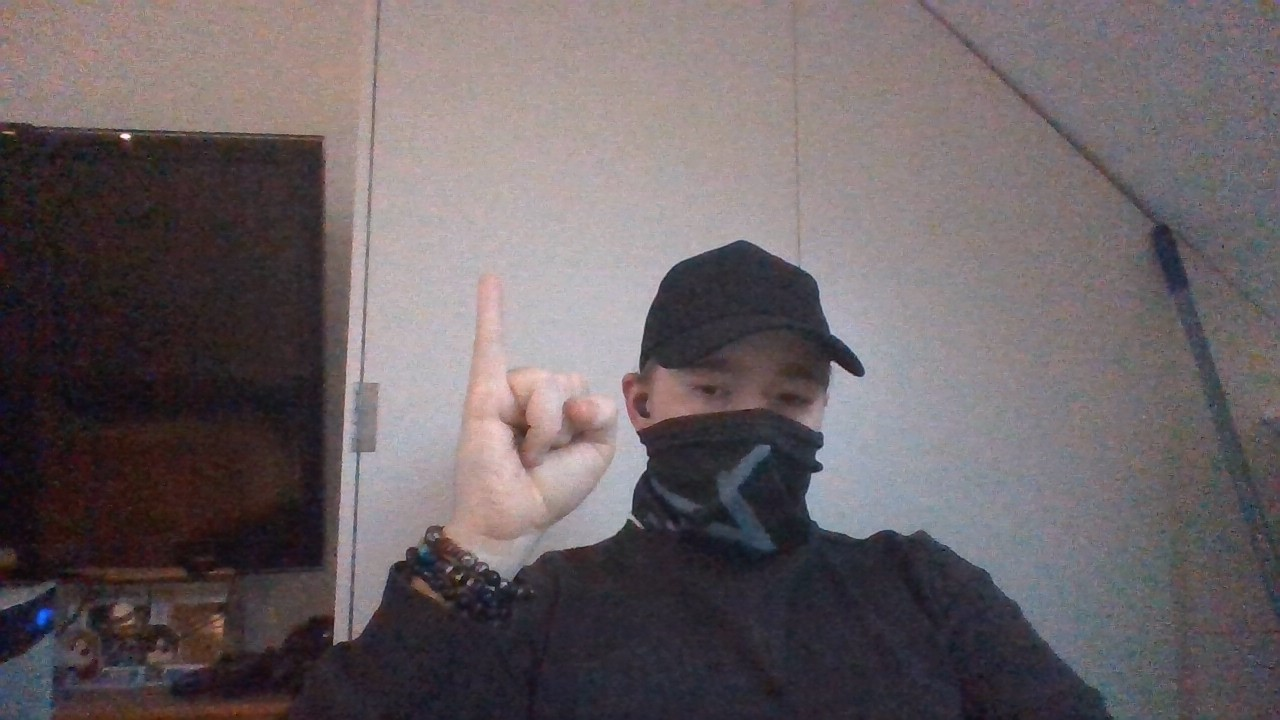I" Sign language: (453, 272, 626, 545)
